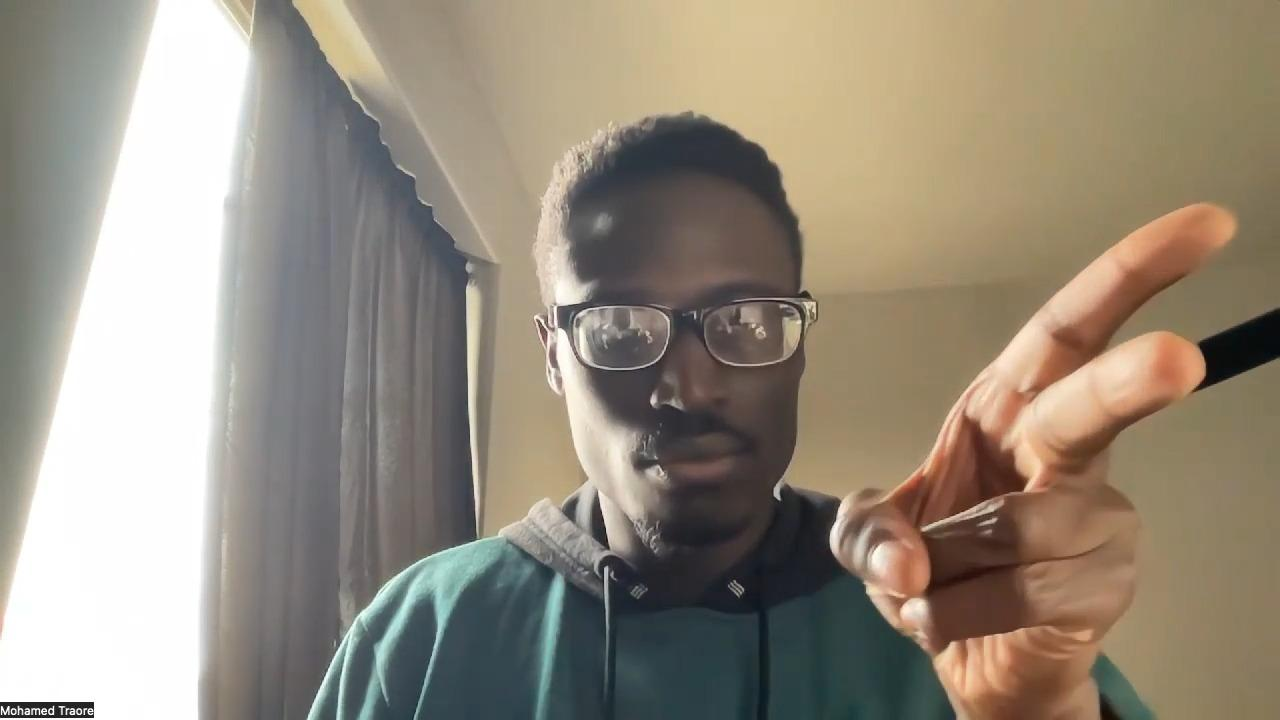Scissors: (828, 197, 1235, 720)
